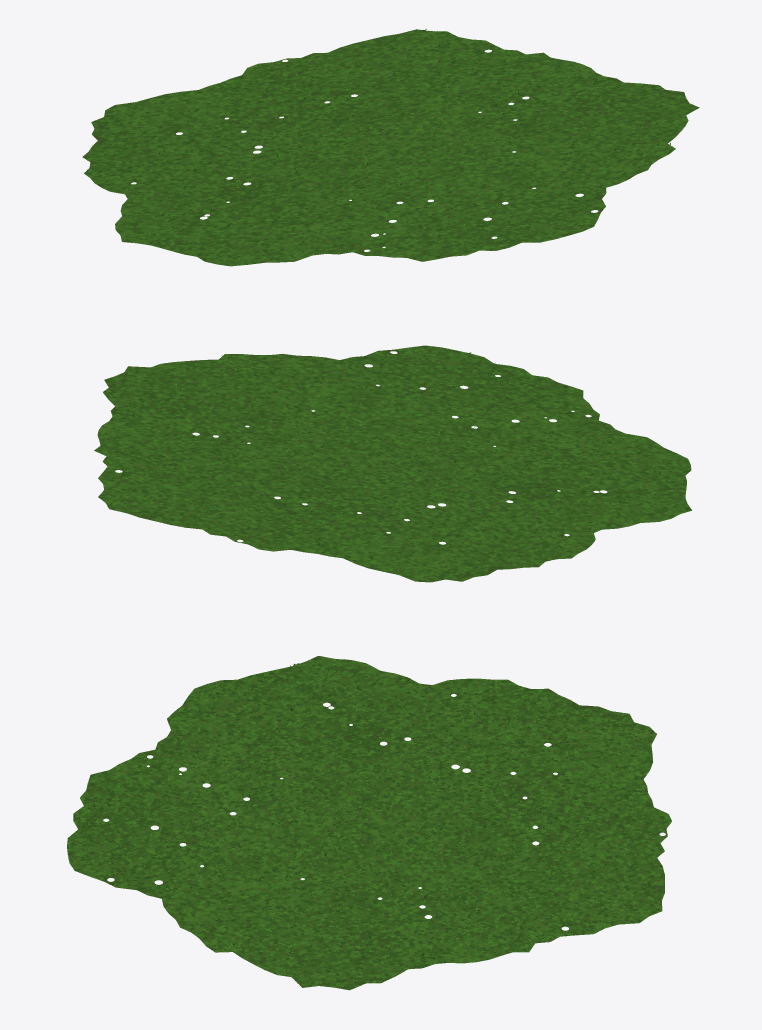
File: Ground_Moss_Patch_01_LOD1.fbx
The picture shows the model from 3 angles, top to bottom: view 1: azimuth 30°, elevation 25°; view 2: azimuth 150°, elevation 25°; view 3: azimuth 270°, elevation 25°; orthographic projection. The views are drawn at different scales.
Visible parts, largest first — view 1: Ground_Moss_Patch_01_LOD1_Mesh; view 2: Ground_Moss_Patch_01_LOD1_Mesh; view 3: Ground_Moss_Patch_01_LOD1_Mesh.
Boxes of the visible parts, bbox=[...] form: Ground_Moss_Patch_01_LOD1_Mesh: bbox=[82, 29, 699, 266]; Ground_Moss_Patch_01_LOD1_Mesh: bbox=[94, 345, 691, 582]; Ground_Moss_Patch_01_LOD1_Mesh: bbox=[67, 656, 671, 990].
Size of the model in its own units: 200 by 1.45 by 160.
1 material, 1 textured.
